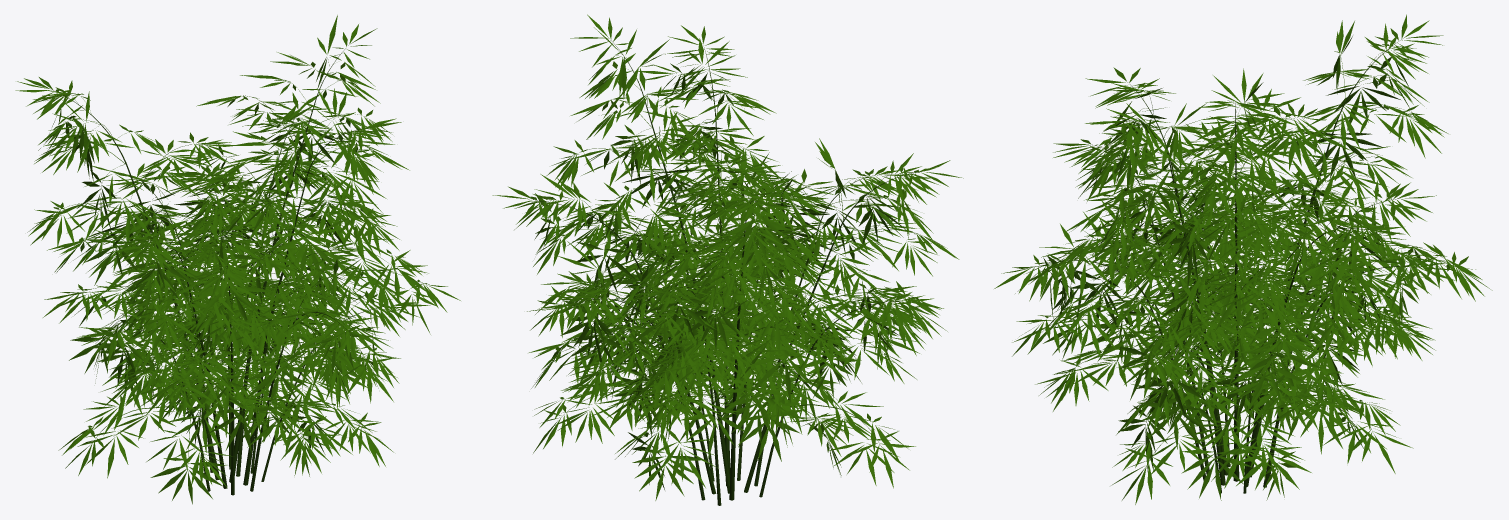
File: bamboo2.obj
3 views of the same model, side by side, from view 1: azimuth 30°, elevation 25°; view 2: azimuth 150°, elevation 25°; view 3: azimuth 270°, elevation 25° (orthographic). The views are drawn at different scales.
Visible parts, largest first — view 1: Mesh16 Group1 Model, Mesh12 Group1 Model, Mesh9 Group1 Model; view 2: Mesh16 Group1 Model, Mesh9 Group1 Model, Mesh7 Group1 Model, Mesh15 Group1 Model; view 3: Mesh16 Group1 Model, Mesh12 Group1 Model.
Part boxes in pixels (x1,y1,x2,y2): Mesh16 Group1 Model: (229, 45, 348, 482); Mesh12 Group1 Model: (243, 128, 363, 485); Mesh9 Group1 Model: (53, 90, 219, 480); Mesh16 Group1 Model: (609, 38, 730, 493); Mesh9 Group1 Model: (729, 200, 756, 500); Mesh7 Group1 Model: (744, 171, 921, 492); Mesh15 Group1 Model: (533, 199, 716, 494); Mesh16 Group1 Model: (1233, 102, 1239, 481); Mesh12 Group1 Model: (1123, 121, 1225, 485).
Size of the model in its own units: 0.8464 by 0.9472 by 0.9328.
